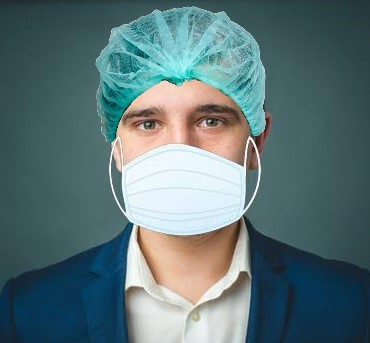with_mask_and_cap: (97, 7, 266, 235)
